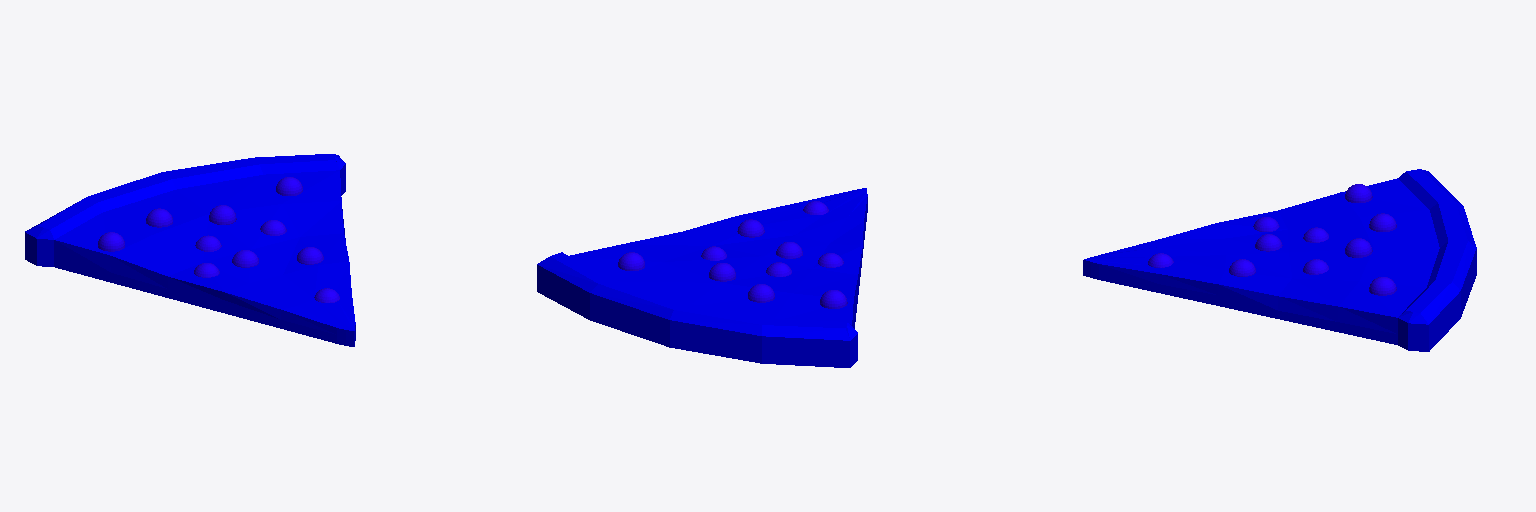
The model's file is BlueSlice.obj.
3 views of the same model, side by side, from view 1: azimuth 30°, elevation 25°; view 2: azimuth 150°, elevation 25°; view 3: azimuth 270°, elevation 25° (orthographic).
Parts seen in each view (by area): view 1: Pizza_Slice_Cube.003; view 2: Pizza_Slice_Cube.003; view 3: Pizza_Slice_Cube.003.
Boxes of the visible parts, x1=… form: Pizza_Slice_Cube.003: x1=25, y1=154, x2=355, y2=346; Pizza_Slice_Cube.003: x1=537, y1=188, x2=867, y2=367; Pizza_Slice_Cube.003: x1=1083, y1=169, x2=1476, y2=351.
Bounding box in the file's own units: 1.07 × 0.1277 × 1.16.